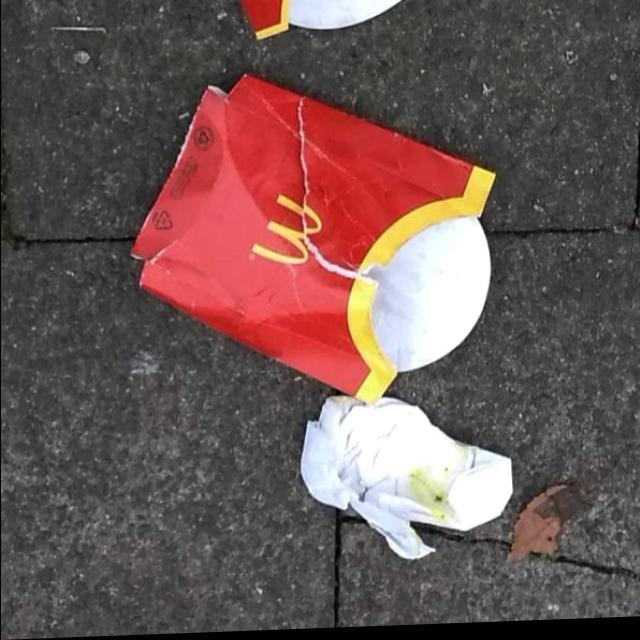Paper: (124, 66, 502, 414), (296, 390, 515, 570), (221, 0, 437, 48)
